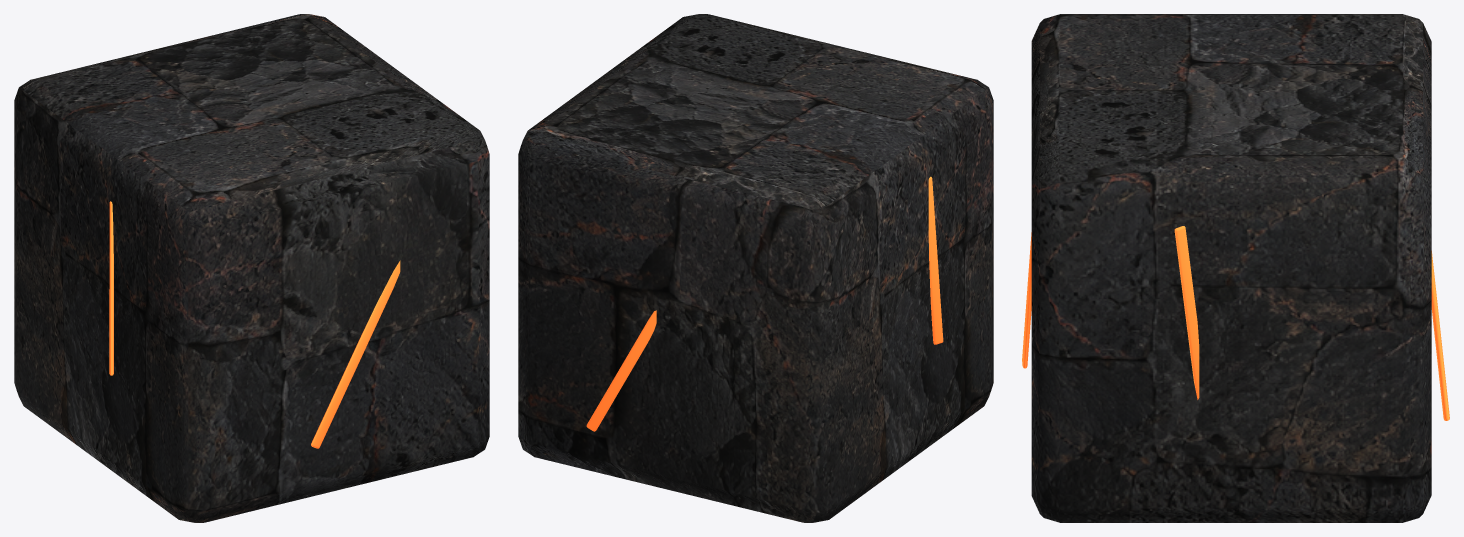
File: w3_block_b.glb
The picture shows the model from 3 angles, left to right: view 1: azimuth 30°, elevation 25°; view 2: azimuth 150°, elevation 25°; view 3: azimuth 270°, elevation 25°; orthographic projection. The views are drawn at different scales.
Parts seen in each view (by area): view 1: w3_block_b; view 2: w3_block_b; view 3: w3_block_b.
Boxes of the visible parts, x1,y1,x2,y2 form: w3_block_b: [14, 14, 489, 522]; w3_block_b: [518, 14, 993, 522]; w3_block_b: [1022, 14, 1449, 522].
Bounding box in the file's own units: 1.88 × 1.79 × 1.91.
Materials: 2 (1 with a texture image).
